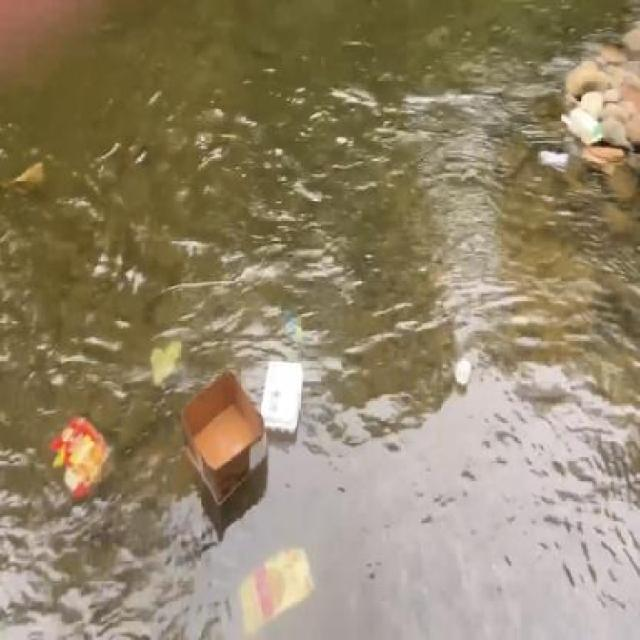Cardboard: (176, 362, 276, 510), (233, 540, 321, 640), (44, 402, 119, 512), (564, 103, 602, 148)
Paper: (577, 138, 632, 180), (452, 354, 474, 388)
Plastic: (254, 350, 314, 442), (532, 143, 572, 177)
